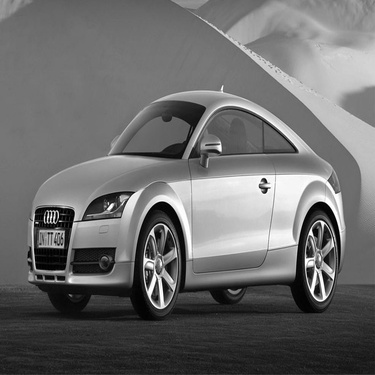car: (22, 80, 348, 325)
